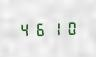four: (18, 21, 32, 37)
one: (48, 19, 62, 36)
six: (33, 20, 47, 37)
zero: (63, 19, 77, 35)
